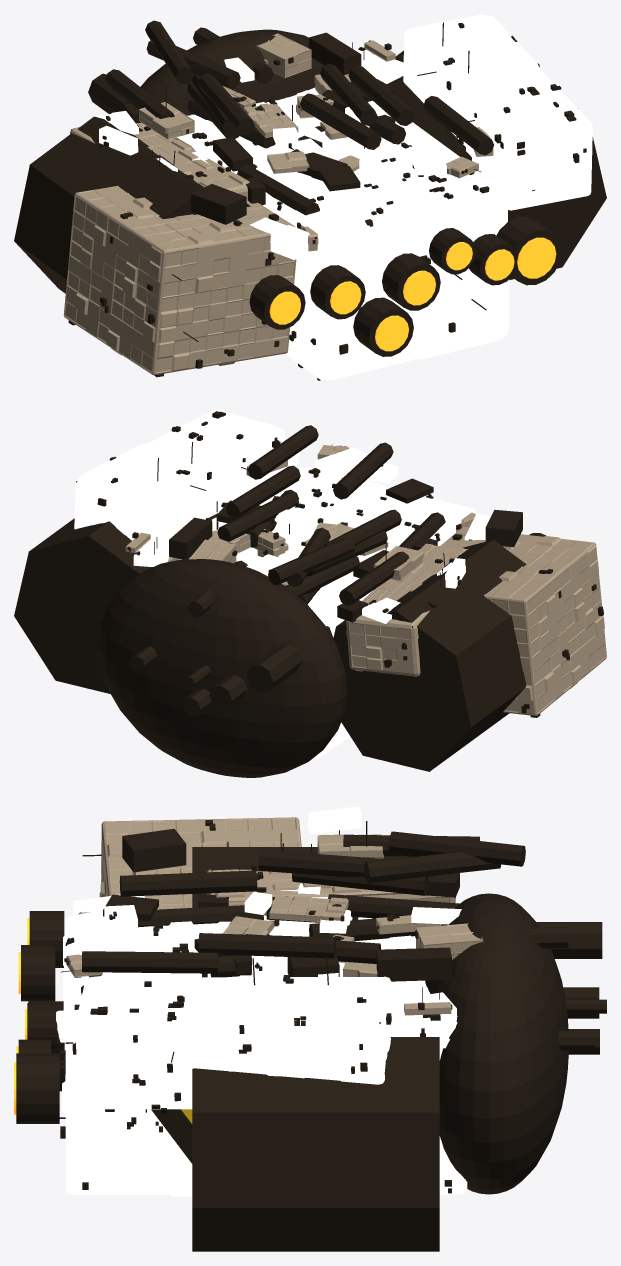
The model's file is raxxan_titan.glb.
3 views of the same model, one above another, from view 1: azimuth 30°, elevation 25°; view 2: azimuth 150°, elevation 25°; view 3: azimuth 270°, elevation 25° (orthographic). The views are drawn at different scales.
Visible parts, largest first — view 1: raxxan_titan; view 2: raxxan_titan; view 3: raxxan_titan.
Part boxes in pixels (bbox=[...]): raxxan_titan: bbox=[14, 14, 606, 380]; raxxan_titan: bbox=[14, 409, 606, 777]; raxxan_titan: bbox=[14, 806, 606, 1251].
Size of the model in its own units: 11.54 by 5.55 by 10.
